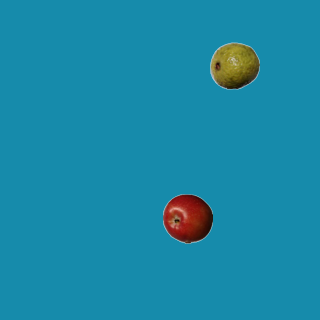Apple Braeburn: (162, 193, 212, 243)
Guava: (209, 40, 259, 90)
